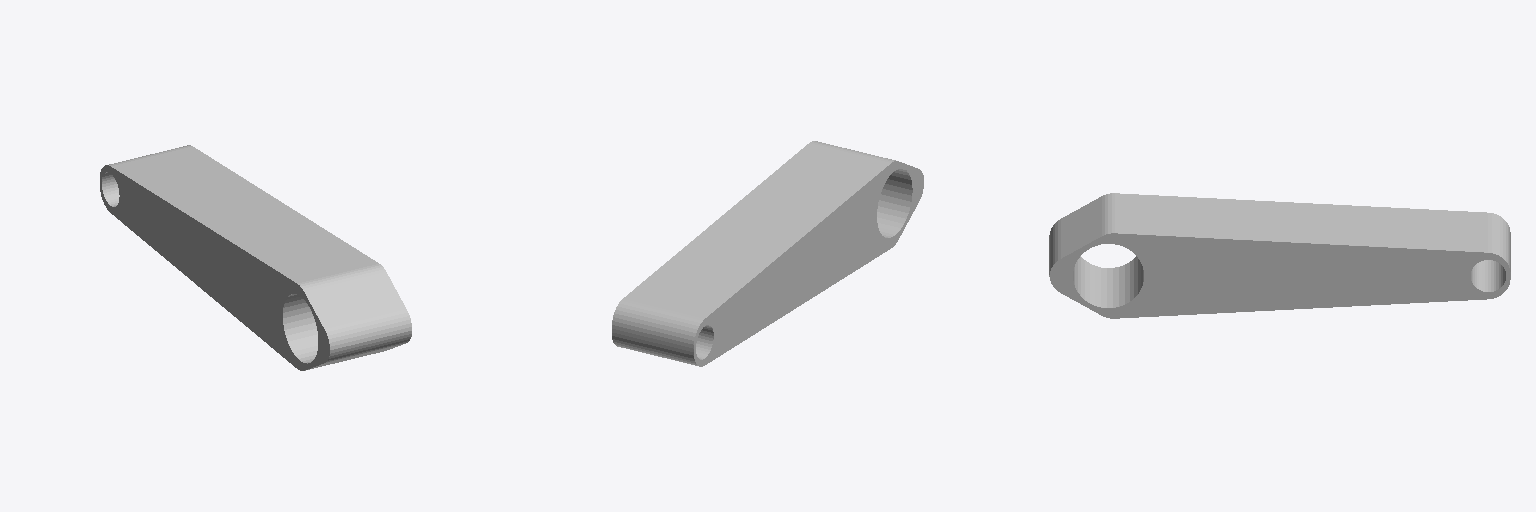
The model's file is viper_L_bt_sus.obj.
3 renders of one model, left to right at view 1: azimuth 30°, elevation 25°; view 2: azimuth 150°, elevation 25°; view 3: azimuth 270°, elevation 25°, orthographic.
Visible parts, largest first — view 1: viper_L_bt_sus; view 2: viper_L_bt_sus; view 3: viper_L_bt_sus.
Part boxes in pixels (x1,y1,x2,y2): viper_L_bt_sus: (100, 145, 411, 370); viper_L_bt_sus: (612, 141, 923, 366); viper_L_bt_sus: (1049, 193, 1510, 318).
Bounding box in the file's own units: 0.08 × 0.0794 × 0.3887.